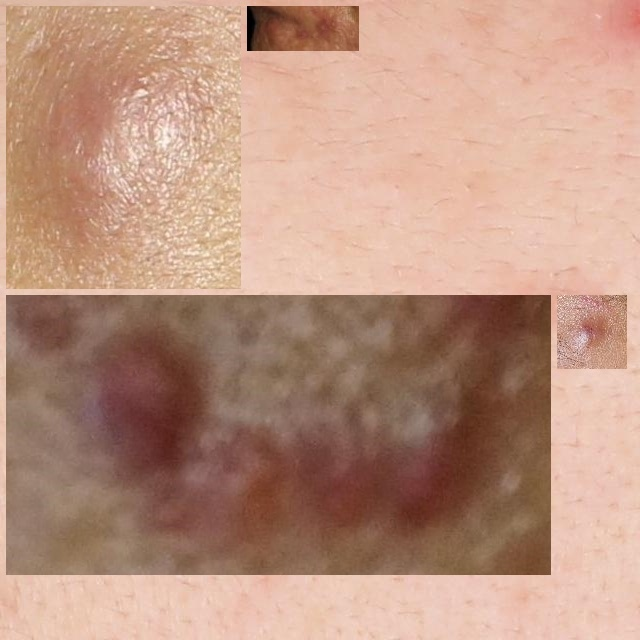nodule: (14, 303, 543, 567), (14, 14, 233, 281), (565, 303, 619, 361), (255, 14, 351, 43)
